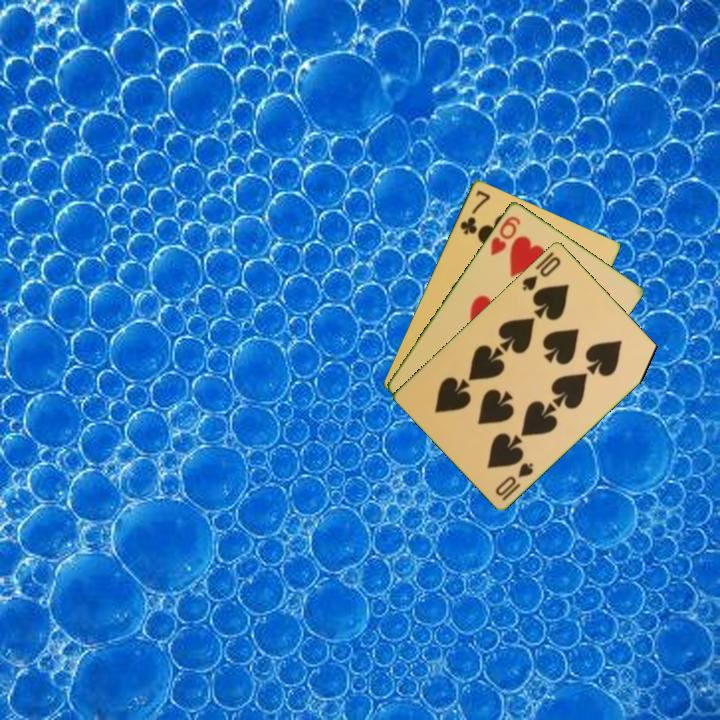10s: (492, 458, 536, 503), (518, 252, 564, 293)
6h: (487, 212, 523, 258)
7c: (456, 186, 493, 237)
